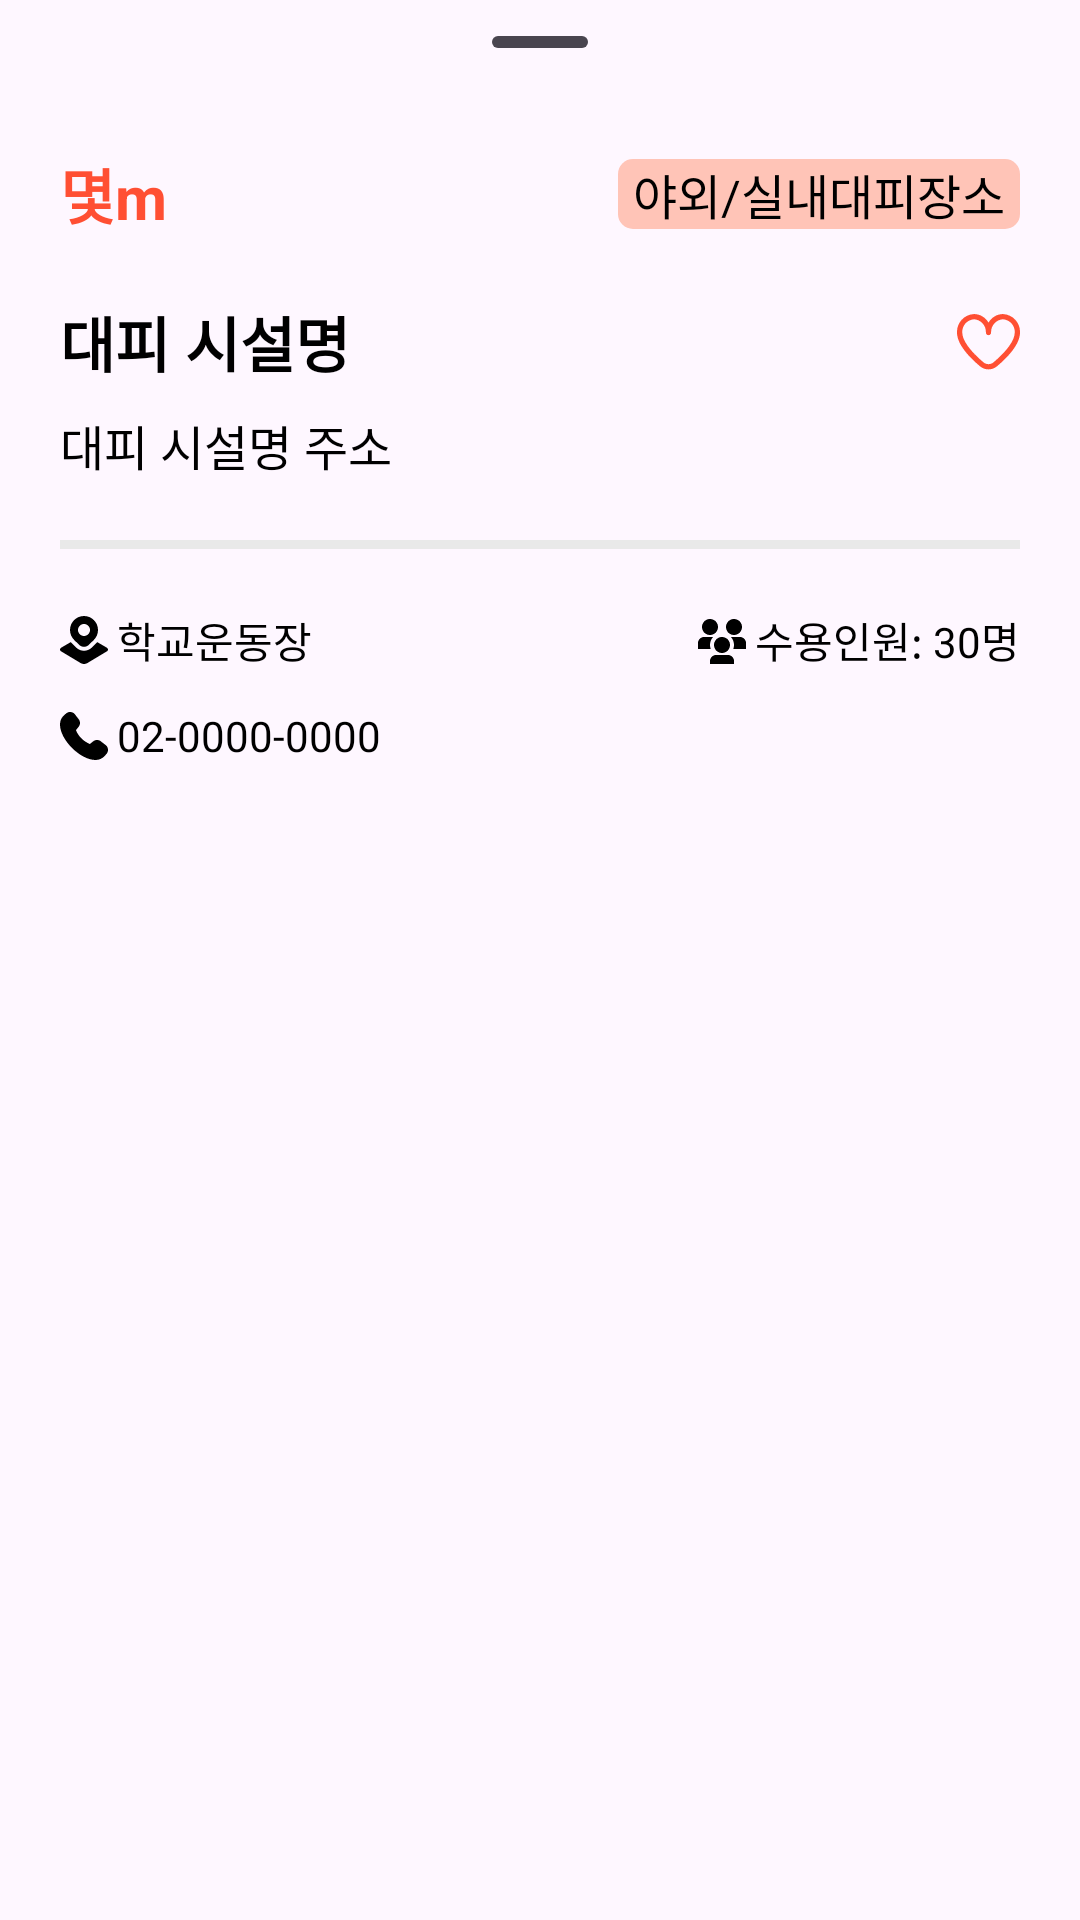

Where icons sit on this 1080 x 1920 app screen, as (x1=x1, y1=y1, x2=x2, y2=y2):
empty heart: (x1=957, y1=314, x2=1020, y2=370)
shelter people: (x1=698, y1=619, x2=746, y2=664)
shelter phone: (x1=60, y1=712, x2=108, y2=760)
